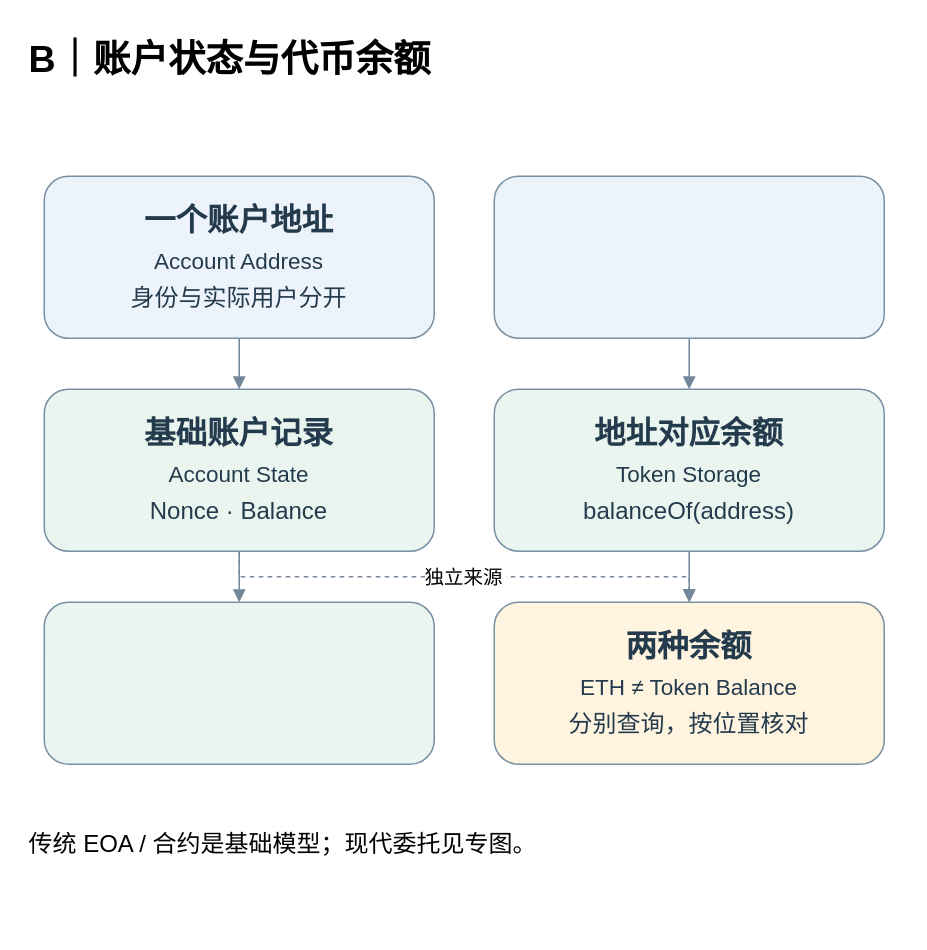
This 927x950 diagram has some shape labels left out. The box of each missing label's shape, as (x1, y1, x2, y2) in pixels:
代币合约 Token Contract 维护相应资产规则: (493, 175, 884, 338)
状态内容承诺 Code Hash / Storage Root Code Hash · Storage Root: (43, 601, 434, 764)
